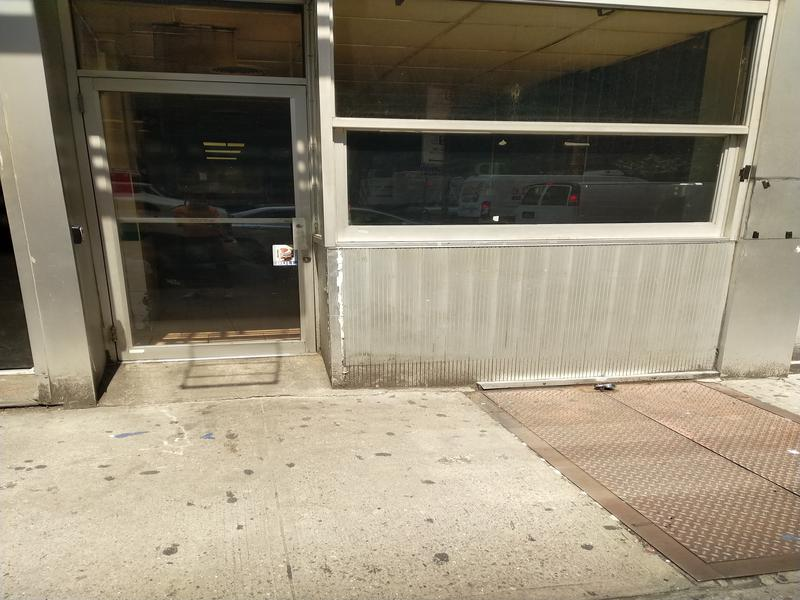door: (81, 69, 332, 364)
